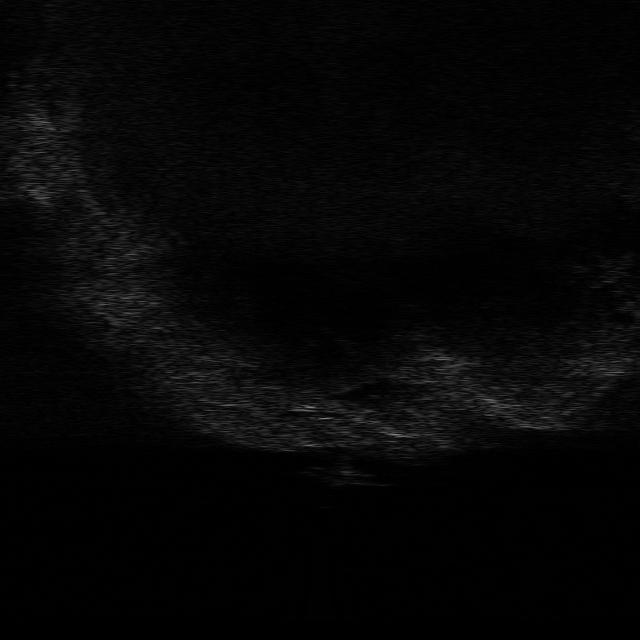plane: (300, 460, 388, 488)
